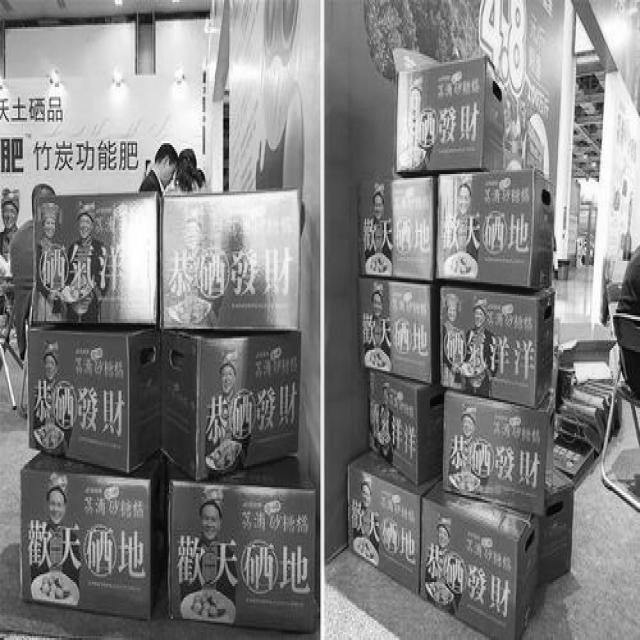box: (161, 451, 316, 629), (19, 449, 163, 616), (162, 331, 302, 482), (160, 189, 302, 335), (27, 324, 164, 473), (419, 470, 541, 637), (30, 195, 160, 325), (443, 385, 554, 520), (439, 283, 557, 406), (438, 168, 554, 286), (348, 448, 442, 589), (397, 56, 505, 178), (357, 278, 441, 385), (369, 369, 445, 484), (359, 178, 438, 284), (555, 318, 615, 407), (539, 466, 573, 586)
